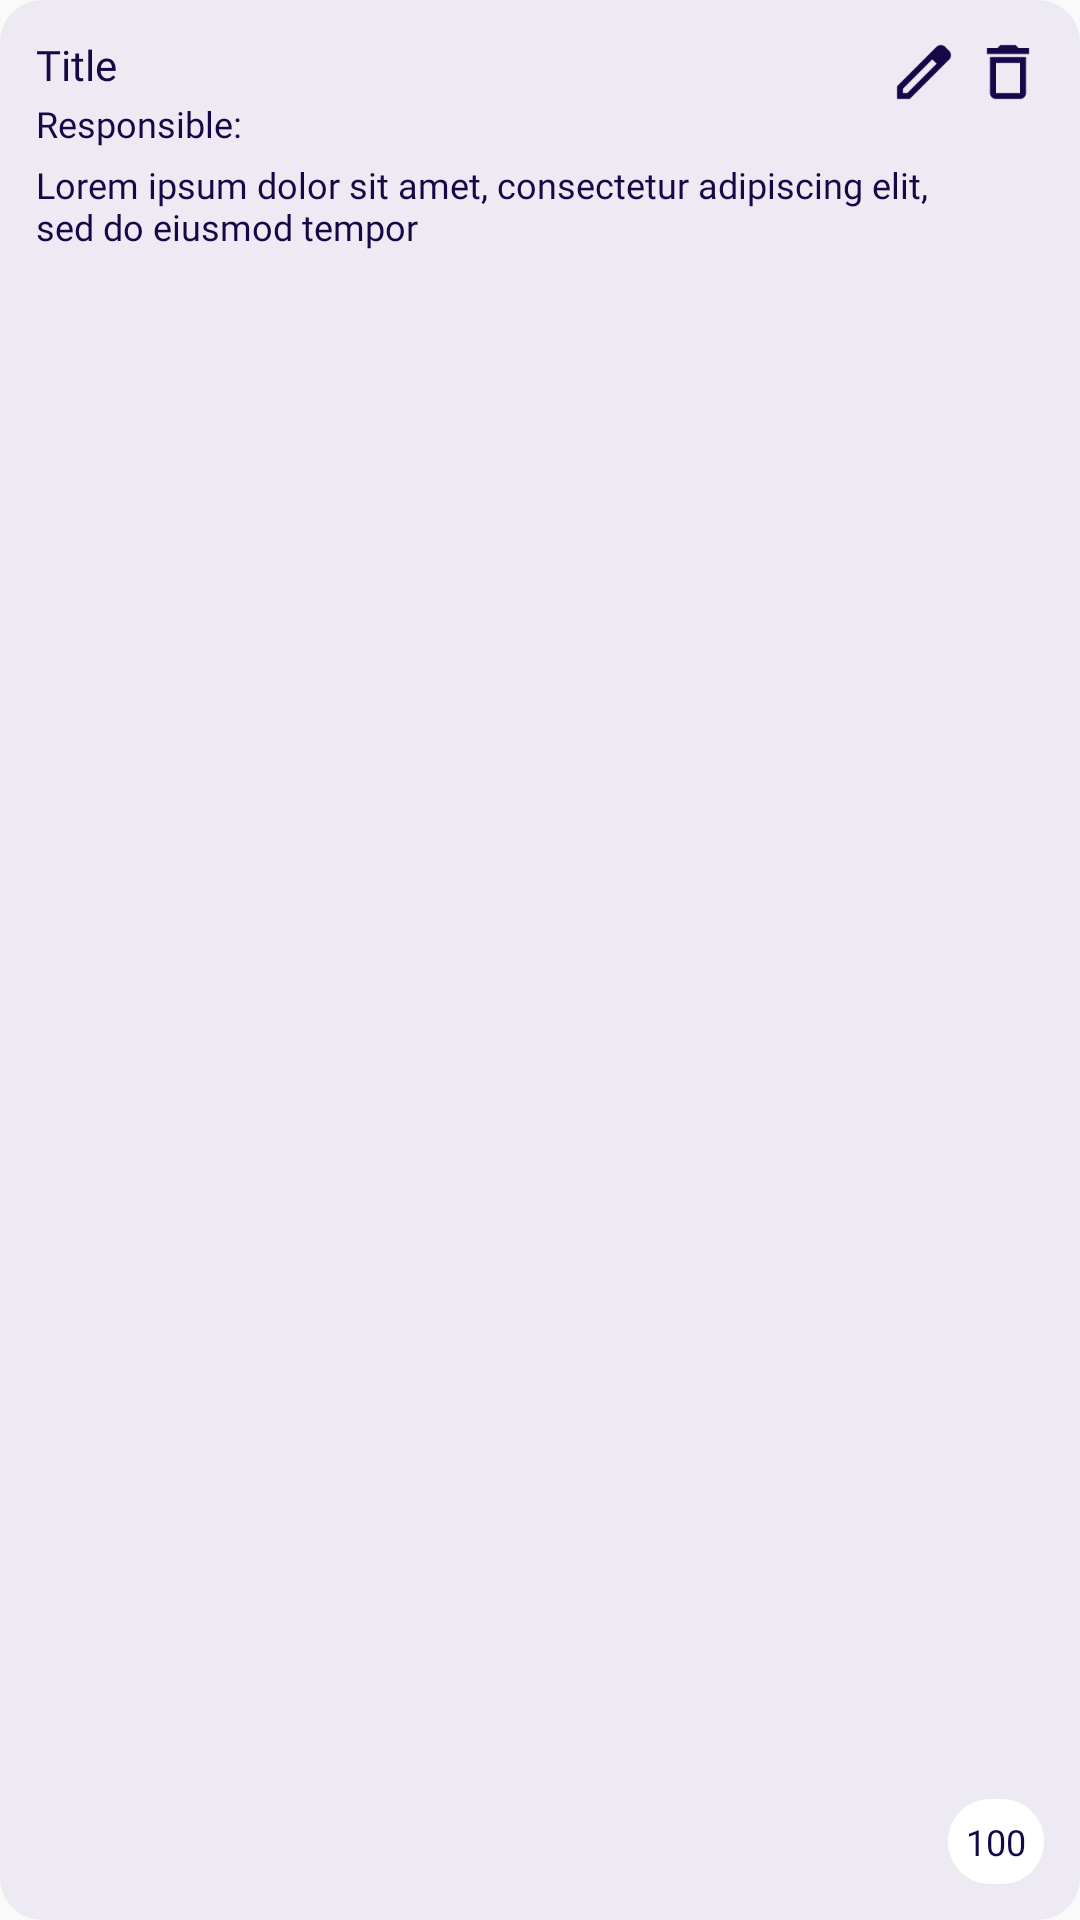

Icon bounding boxes for this 1080*1920 phone screenshot, format (x1, y1, x2, y2):
Delete task: (986, 45, 1030, 99)
Edit task: (897, 45, 951, 99)
